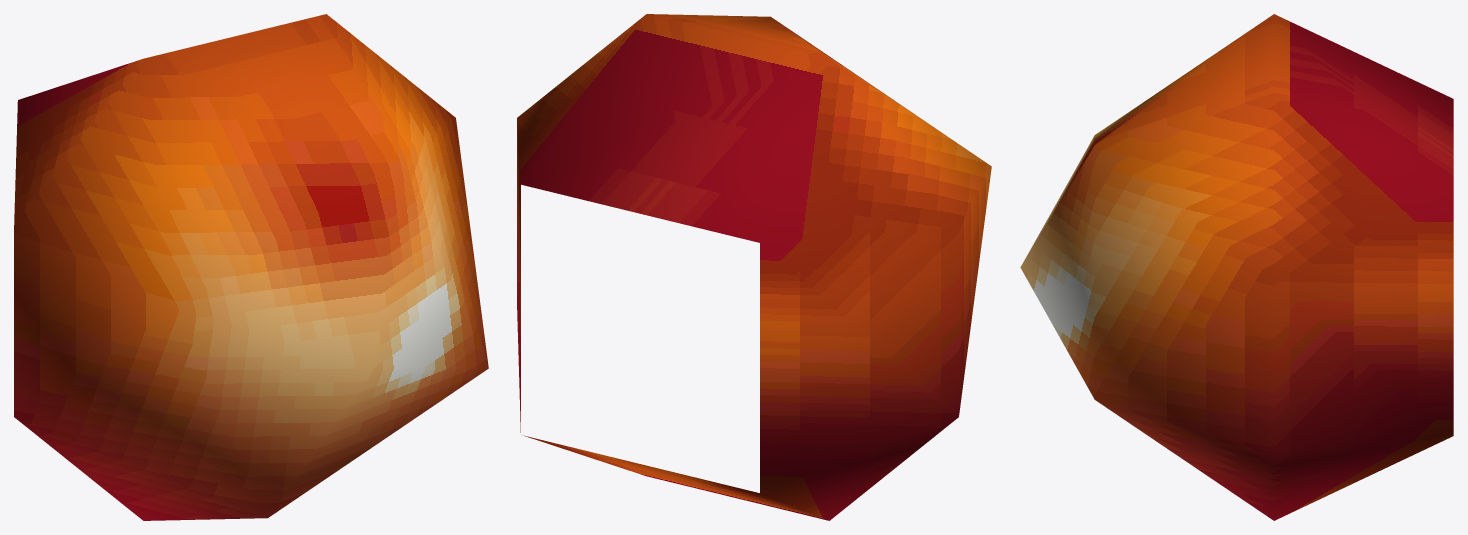
The model's file is billboard_fruit_warm_01.glb.
3 views of the same model, side by side, from view 1: azimuth 30°, elevation 25°; view 2: azimuth 150°, elevation 25°; view 3: azimuth 270°, elevation 25° (orthographic). The views are drawn at different scales.
Parts seen in each view (by area): view 1: town.billboard_fruit_warm_01-Mesh[0]; view 2: town.billboard_fruit_warm_01-Mesh[0]; view 3: town.billboard_fruit_warm_01-Mesh[0].
Boxes of the visible parts, x1,y1,x2,y2 form: town.billboard_fruit_warm_01-Mesh[0]: (14, 14, 488, 520); town.billboard_fruit_warm_01-Mesh[0]: (517, 14, 991, 520); town.billboard_fruit_warm_01-Mesh[0]: (1020, 14, 1453, 520).
Size of the model in its own units: 0.5799 by 0.5799 by 0.5358.
Materials: 1 (1 with a texture image).
